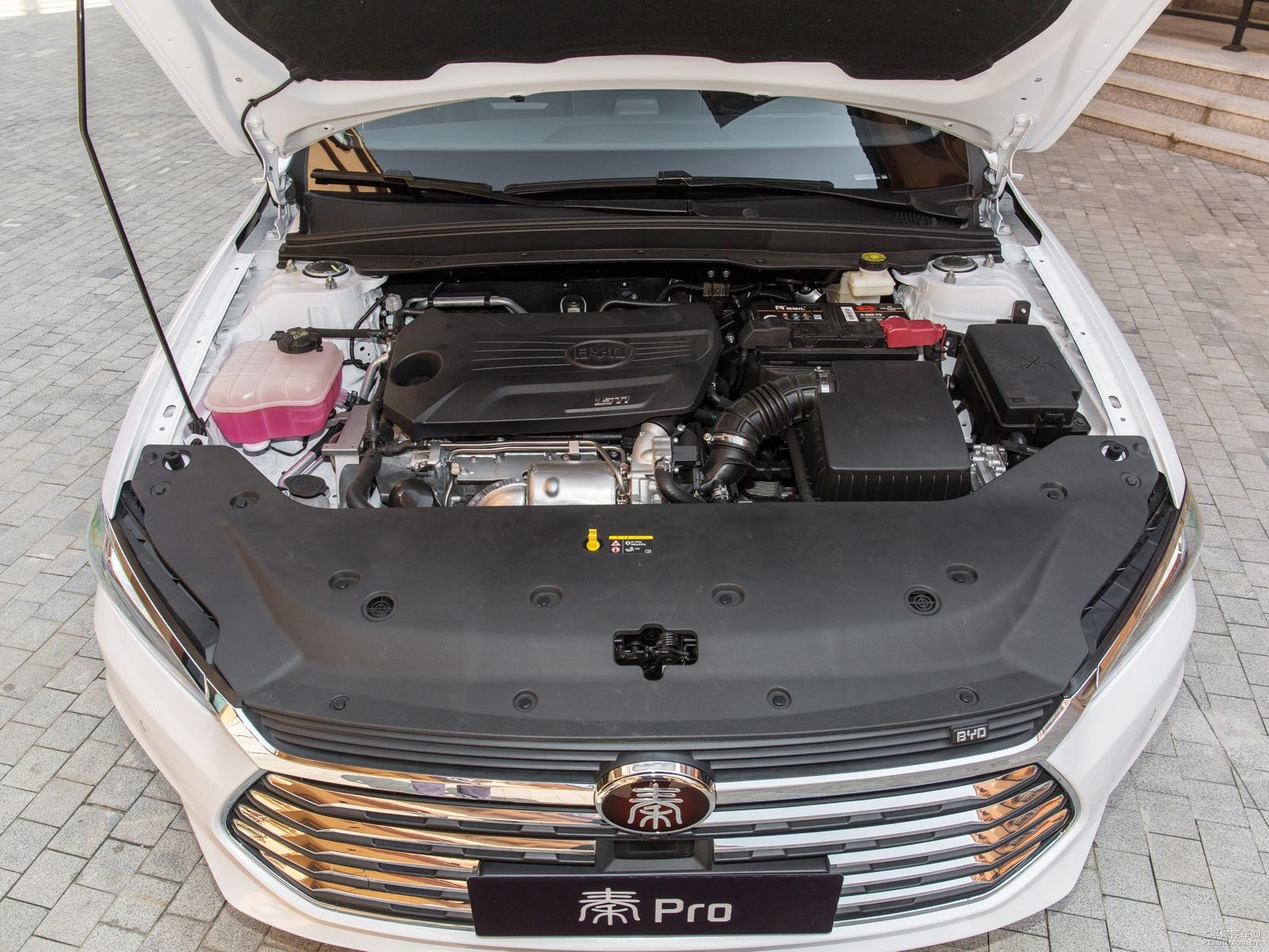BYD Qin: (596, 773, 715, 833)
